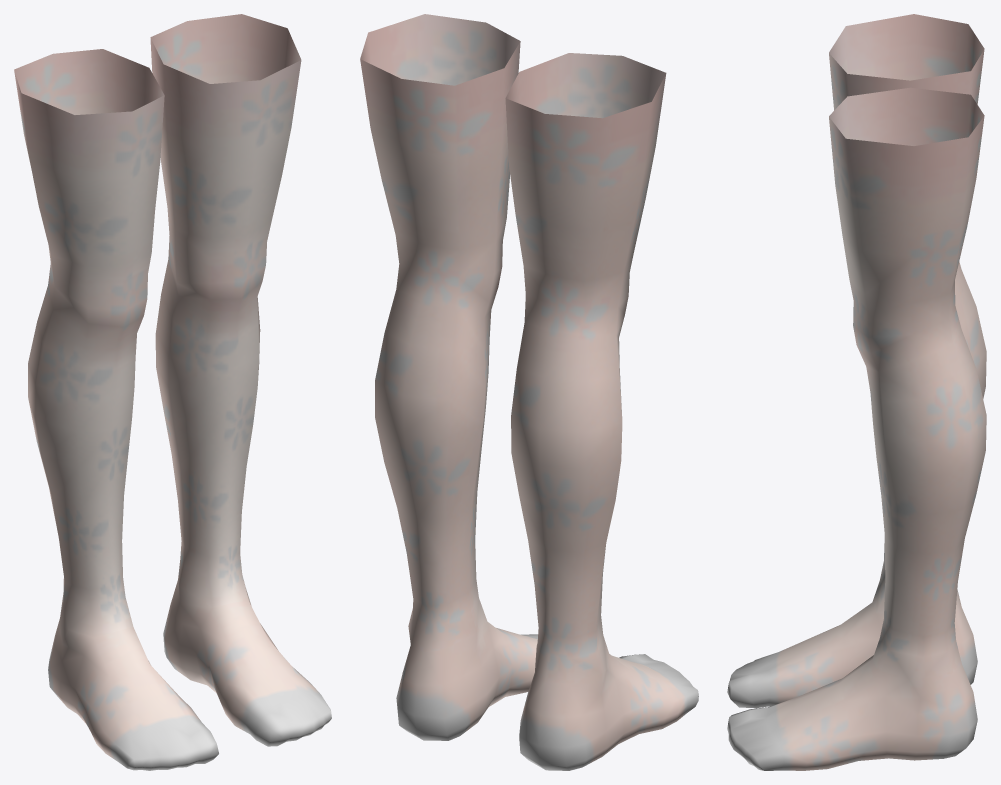
File: p0_lgw1006_00_lgw00.gltf
The picture shows the model from 3 angles, left to right: view 1: azimuth 30°, elevation 25°; view 2: azimuth 150°, elevation 25°; view 3: azimuth 270°, elevation 25°; orthographic projection. The views are drawn at different scales.
Visible parts, largest first — view 1: lgw00_legs01_mesh_shape:legs_skin, lgw00_legs02_mesh_shape:legs_skin, lgw00_legs00_mesh_shape:legs_skin; view 2: lgw00_legs01_mesh_shape:legs_skin, lgw00_legs02_mesh_shape:legs_skin, lgw00_legs00_mesh_shape:legs_skin; view 3: lgw00_legs01_mesh_shape:legs_skin, lgw00_legs00_mesh_shape:legs_skin, lgw00_legs02_mesh_shape:legs_skin.
Boxes of the visible parts, bbox=[...] form: lgw00_legs01_mesh_shape:legs_skin: bbox=[28, 156, 281, 549]; lgw00_legs02_mesh_shape:legs_skin: bbox=[14, 14, 301, 224]; lgw00_legs00_mesh_shape:legs_skin: bbox=[48, 500, 331, 770]; lgw00_legs01_mesh_shape:legs_skin: bbox=[375, 171, 645, 594]; lgw00_legs02_mesh_shape:legs_skin: bbox=[360, 14, 666, 231]; lgw00_legs00_mesh_shape:legs_skin: bbox=[396, 541, 698, 770]; lgw00_legs01_mesh_shape:legs_skin: bbox=[842, 228, 986, 596]; lgw00_legs00_mesh_shape:legs_skin: bbox=[727, 536, 977, 770]; lgw00_legs02_mesh_shape:legs_skin: bbox=[829, 14, 984, 256].
Size of what is drawn, in the model's own units: 0.2758 by 0.6251 by 0.2287.
1 material, 1 textured.
